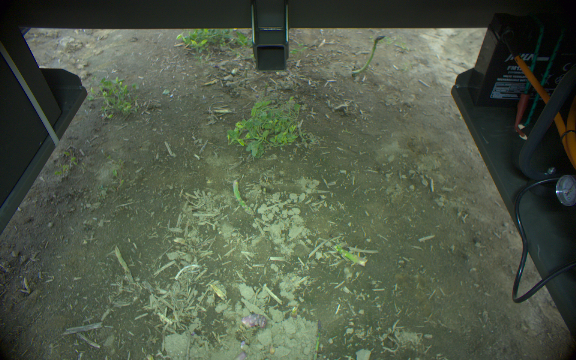aspa: (349, 34, 386, 76), (332, 241, 368, 267), (232, 177, 253, 215), (240, 312, 267, 331)
